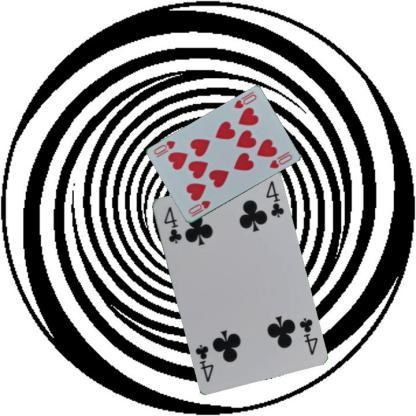10h: (186, 198, 212, 218), (231, 92, 258, 110)
4c: (296, 314, 319, 356), (161, 203, 183, 245)
